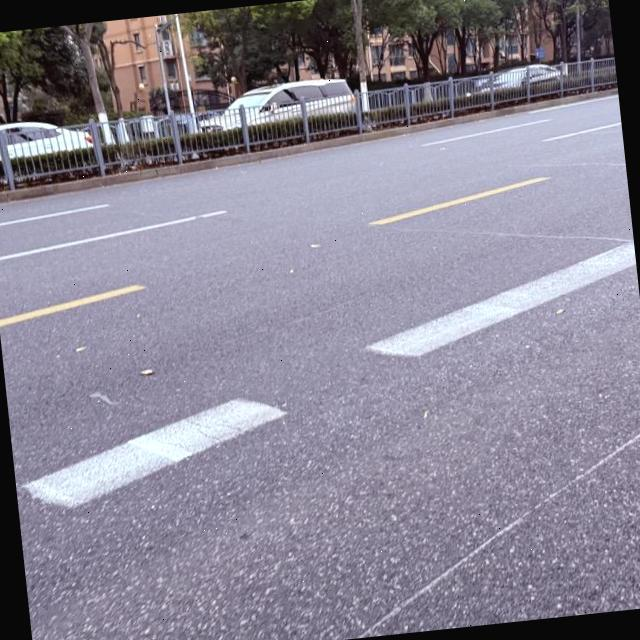curb: (0, 89, 617, 202)
